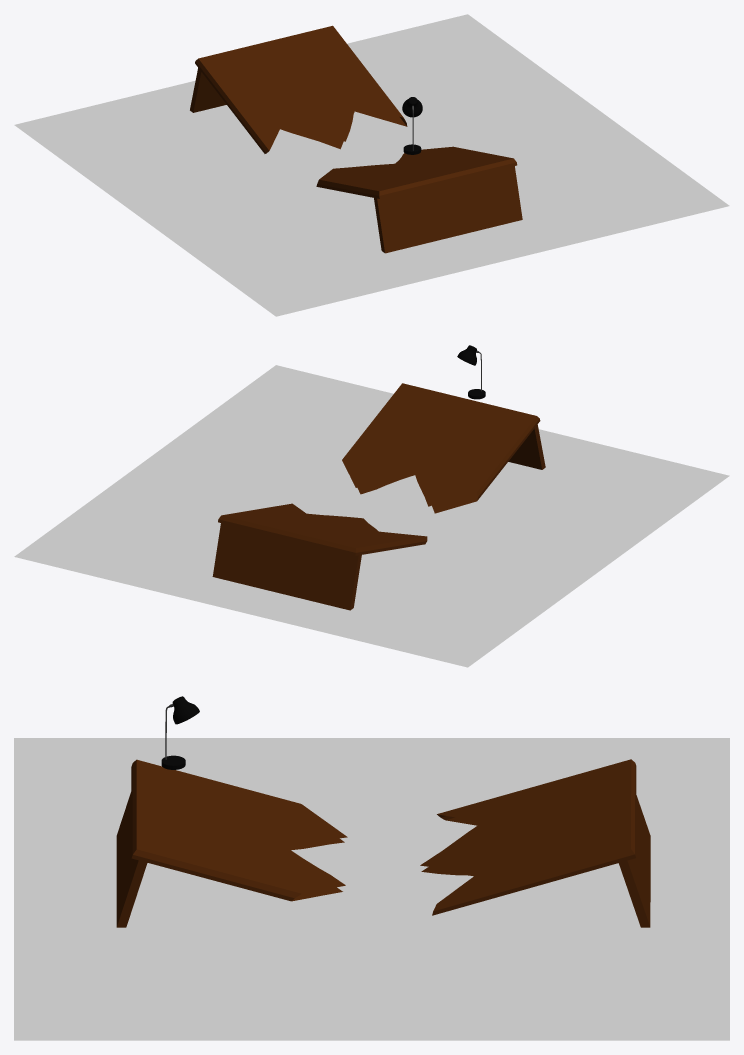
File: BROKEN table.fbx
The picture shows the model from 3 angles, top to bottom: view 1: azimuth 30°, elevation 25°; view 2: azimuth 150°, elevation 25°; view 3: azimuth 270°, elevation 25°; orthographic projection. The views are drawn at different scales.
Visible parts, largest first — view 1: Plane, broken table left, Broken table right, base; view 2: Plane, Broken table right, broken table left; view 3: Plane, Broken table right, broken table left, base.
Part boxes in pixels (x1,y1,x2,y2): Plane: (14, 14, 729, 316); broken table left: (190, 25, 407, 153); Broken table right: (316, 146, 522, 253); base: (402, 97, 422, 154); Plane: (14, 365, 729, 667); Broken table right: (342, 383, 545, 513); broken table left: (212, 503, 427, 610); Plane: (14, 738, 729, 1040); Broken table right: (116, 759, 347, 927); broken table left: (420, 759, 650, 927); base: (161, 696, 199, 769).
Bounding box in the file's own units: 2526 × 683 × 2526.
